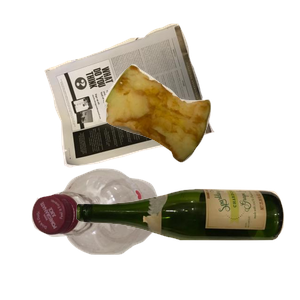glass: (74, 186, 300, 300)
paper: (42, 21, 249, 181)
plastic: (29, 166, 183, 300)
trash: (101, 62, 300, 217)
